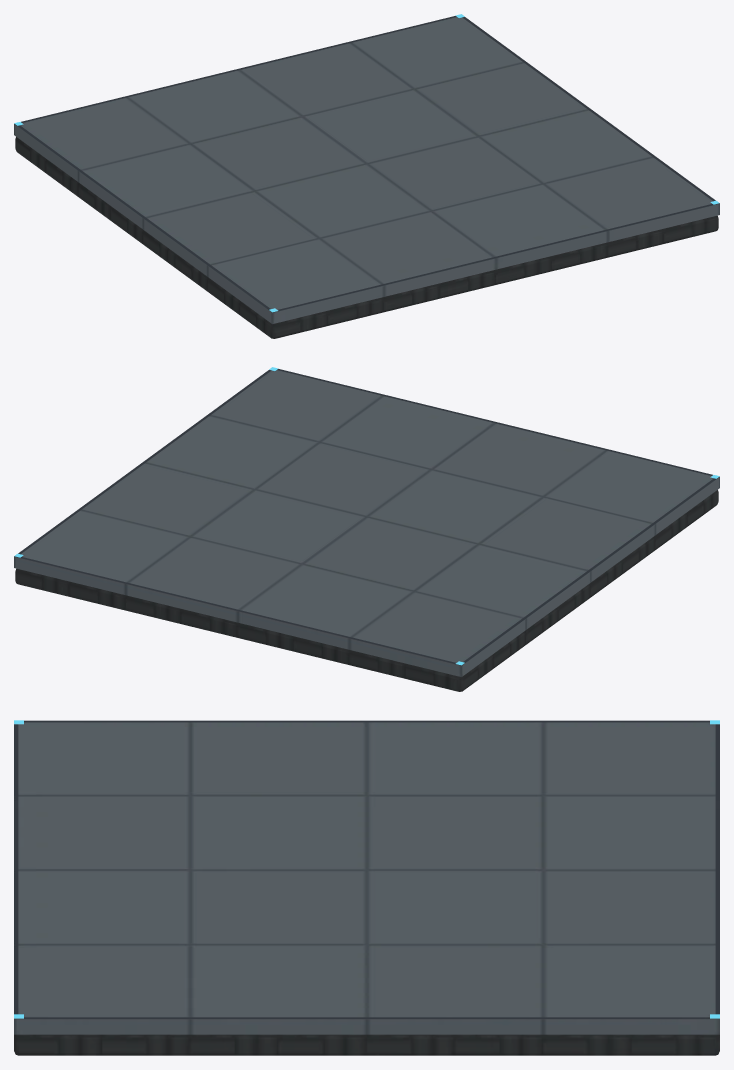
File: hull_enterprise_hull_standard.glb
3 renders of one model, top to bottom at view 1: azimuth 30°, elevation 25°; view 2: azimuth 150°, elevation 25°; view 3: azimuth 270°, elevation 25°, orthographic. The views are drawn at different scales.
Visible parts, largest first — view 1: te_hull_enterprise_hull_standard; view 2: te_hull_enterprise_hull_standard; view 3: te_hull_enterprise_hull_standard.
Boxes of the visible parts, x1,y1,x2,y2 form: te_hull_enterprise_hull_standard: (14, 14, 719, 338); te_hull_enterprise_hull_standard: (14, 367, 719, 691); te_hull_enterprise_hull_standard: (14, 720, 719, 1055).
Size of the model in its own units: 1 by 0.0612 by 1.
1 material, 1 textured.
